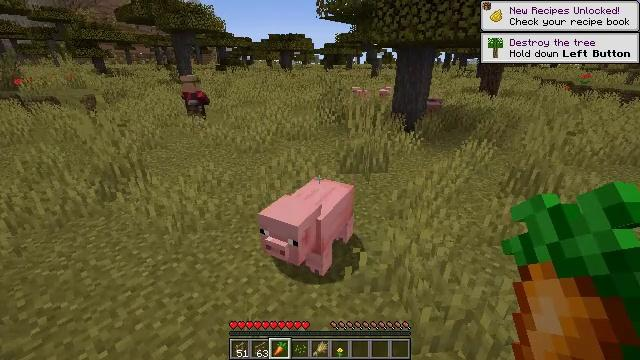pig: (259, 180, 356, 270), (351, 86, 367, 98), (379, 86, 390, 98)
